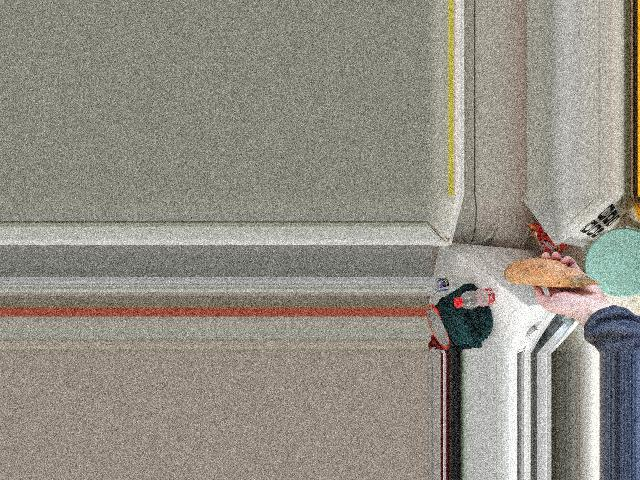sweet_potato: (513, 257, 592, 288)
